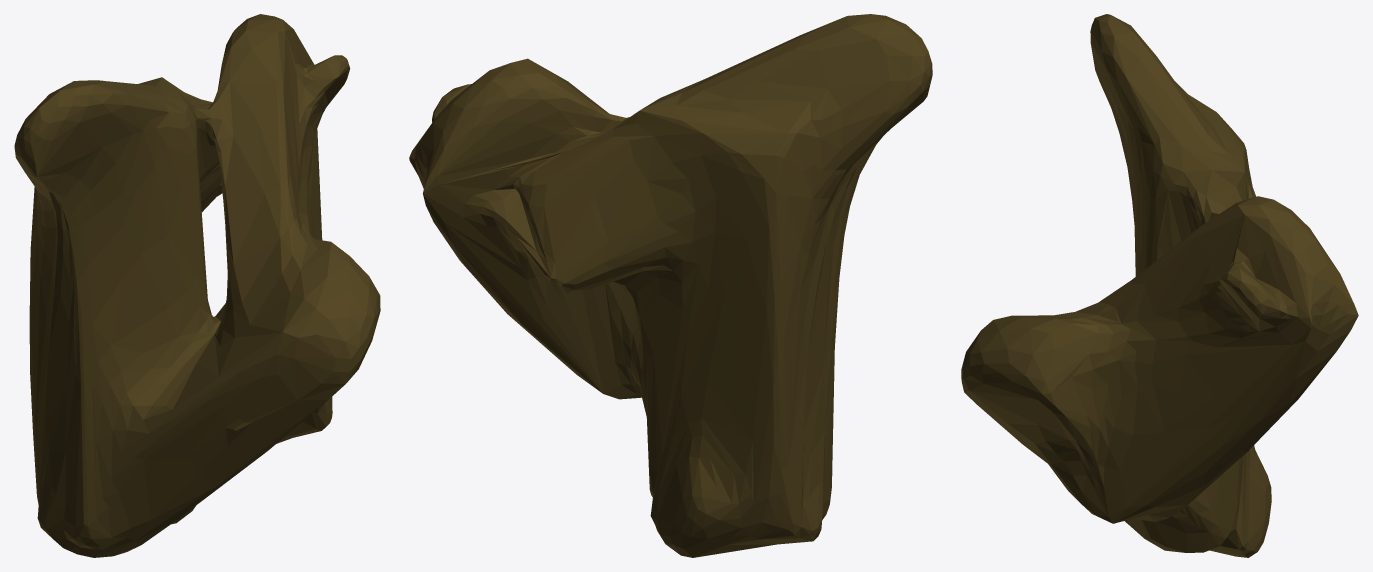
3 views of the same model, side by side, from view 1: azimuth 30°, elevation 25°; view 2: azimuth 150°, elevation 25°; view 3: azimuth 270°, elevation 25° (orthographic). The views are drawn at different scales.
Visible parts, largest first — view 1: 831_Cube.3349; view 2: 831_Cube.3349; view 3: 831_Cube.3349.
Part boxes in pixels (x1,y1,x2,y2): 831_Cube.3349: (14,14,380,557); 831_Cube.3349: (409,14,932,557); 831_Cube.3349: (961,14,1358,557).
Bounding box in the file's own units: 12.61 × 15.02 × 11.11.
